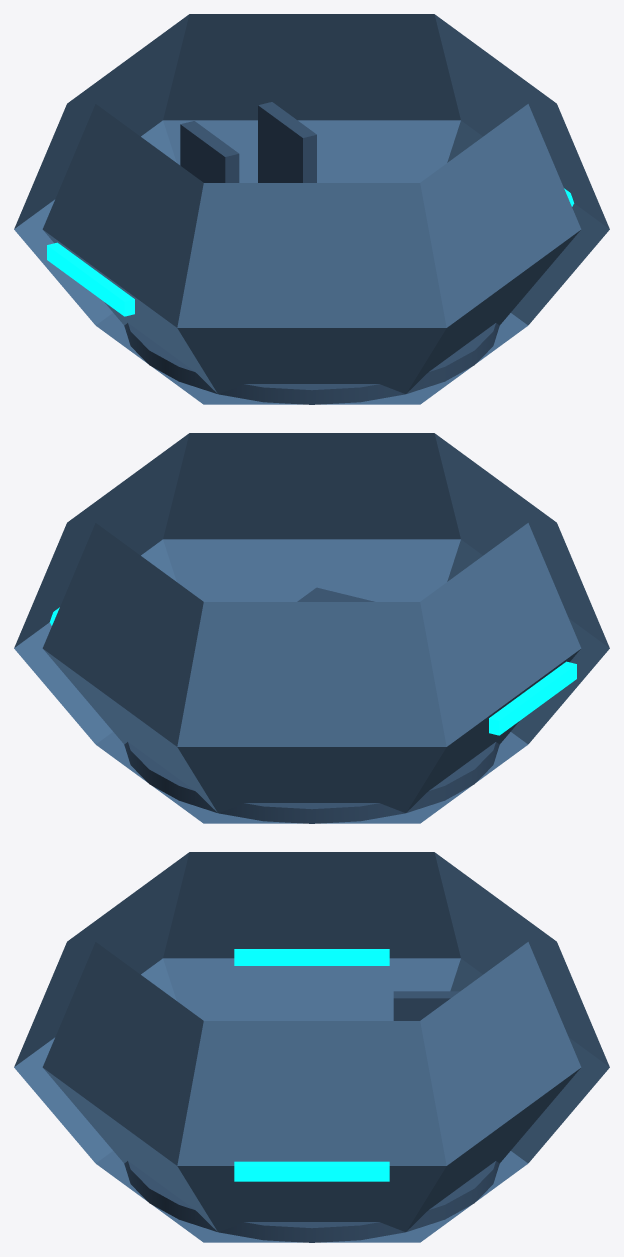
The model's file is Origin_turret.glb.
The picture shows the model from 3 angles, top to bottom: view 1: azimuth 30°, elevation 25°; view 2: azimuth 150°, elevation 25°; view 3: azimuth 270°, elevation 25°; orthographic projection.
Visible parts, largest first — view 1: Origin_Turret; view 2: Origin_Turret; view 3: Origin_Turret.
Boxes of the visible parts, <box> form: Origin_Turret: <box>14,14,609,404</box>; Origin_Turret: <box>14,433,609,823</box>; Origin_Turret: <box>14,852,609,1242</box>.
Size of the model in its own units: 2.56 by 1.2 by 2.92.
